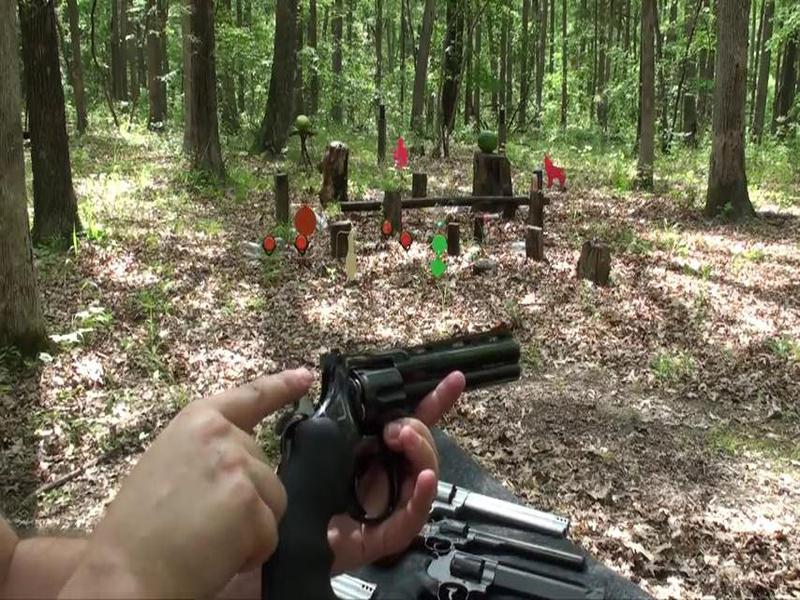Revolver: (251, 315, 545, 600)
